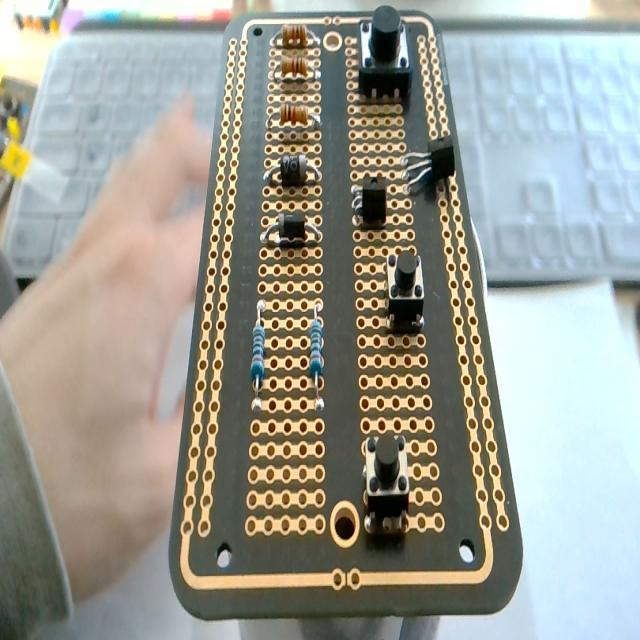diode: (262, 189, 322, 241), (264, 157, 320, 187)
resistor: (251, 300, 267, 412), (308, 301, 324, 408), (267, 55, 320, 81), (268, 102, 321, 128), (270, 23, 322, 49)
switch: (358, 5, 412, 101), (363, 432, 411, 536), (385, 245, 425, 332), (352, 174, 387, 227)
transistor: (401, 134, 455, 192)
